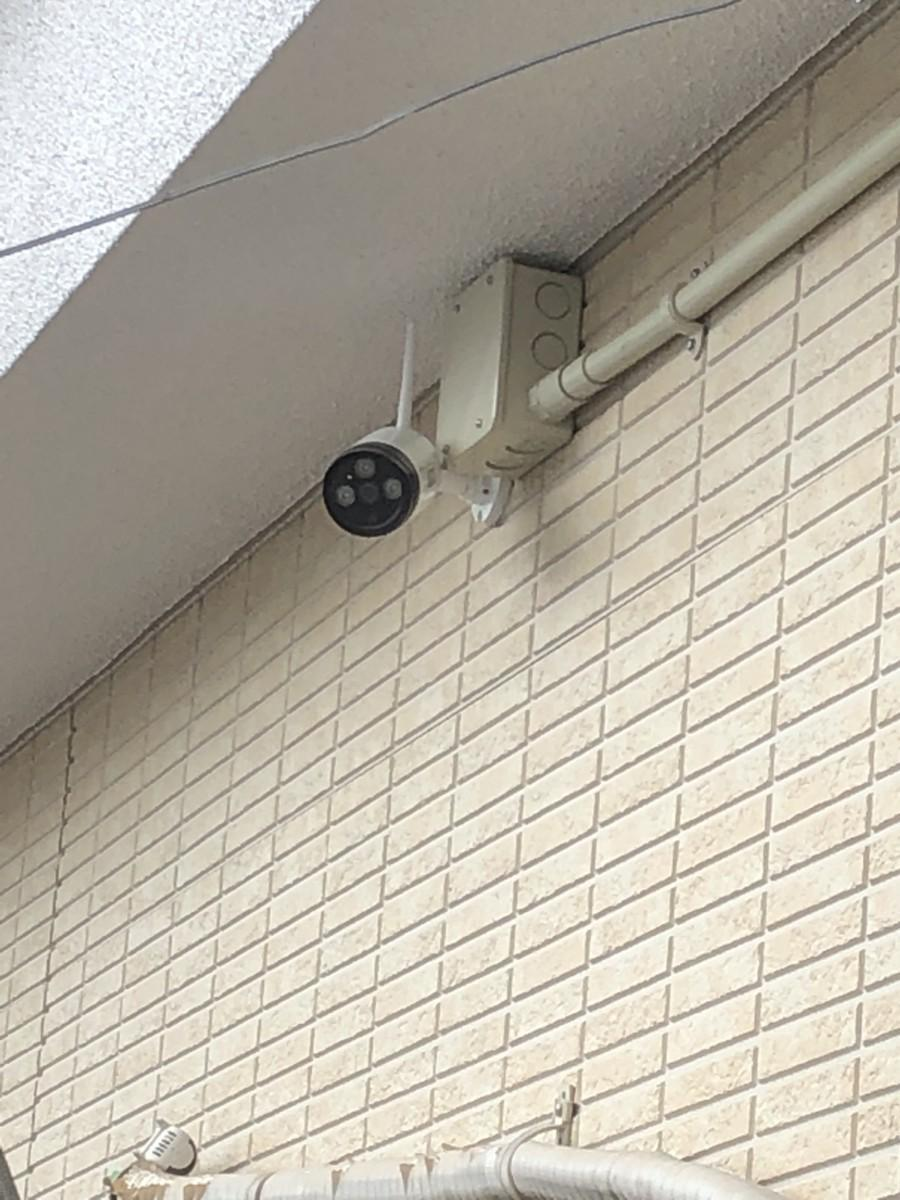tutu: (314, 421, 449, 543)
